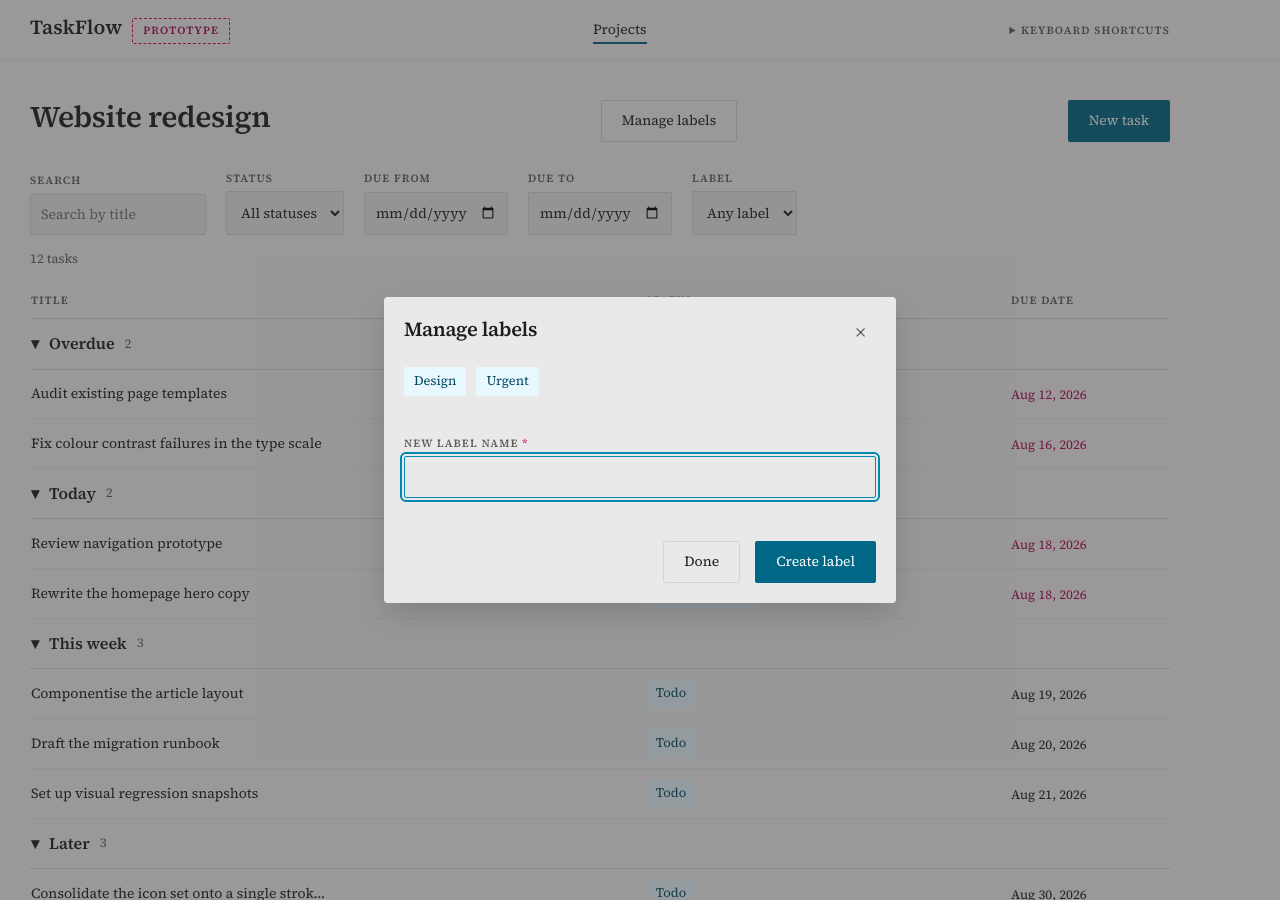
Test case: ManageLabelsDialog › rejects an empty name and shows the error summary focused, with a per-field message
Click the button "Create label". click: [816, 562]
box: [755, 541, 876, 583]
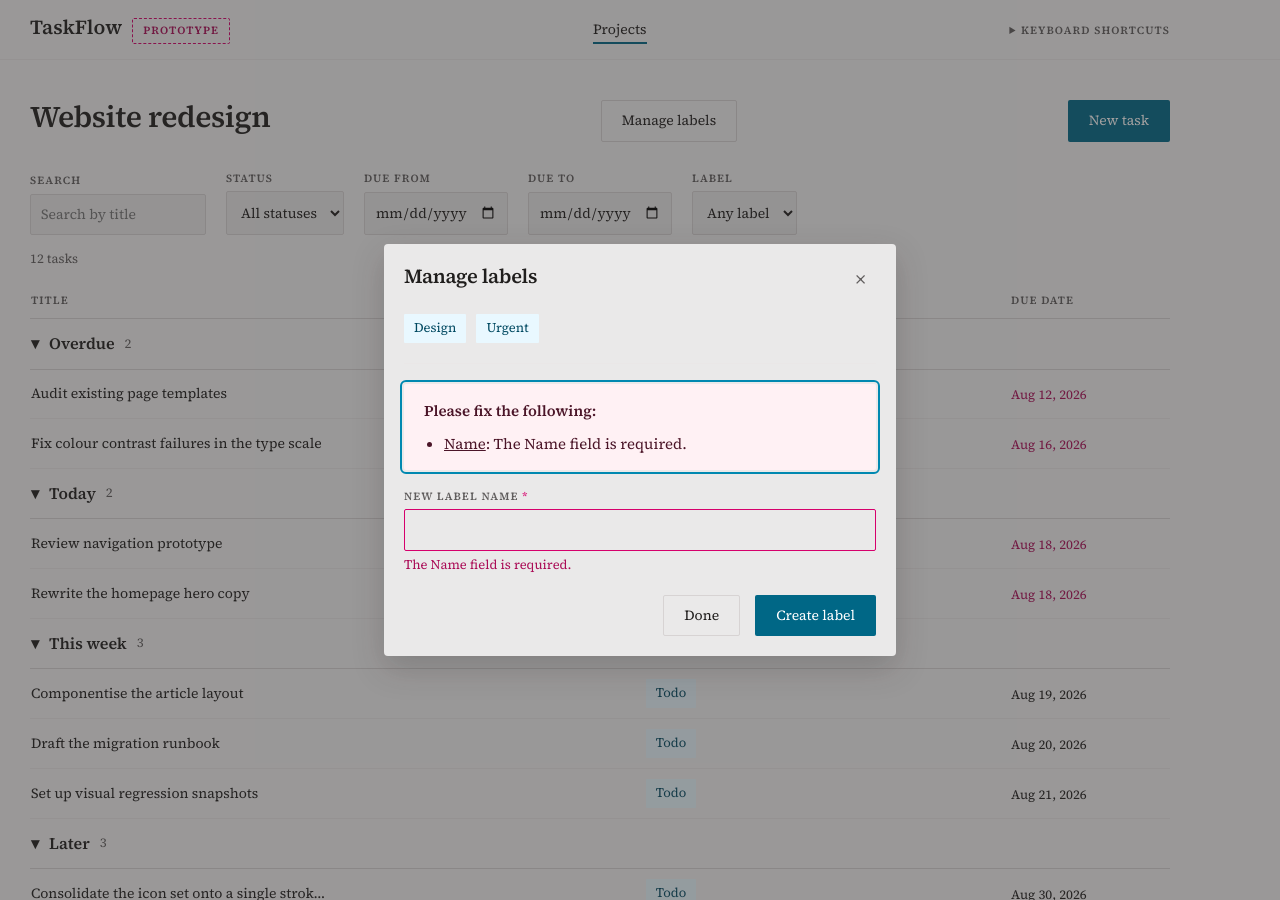
Check: the message shows "Name", box [444, 433, 486, 454]
